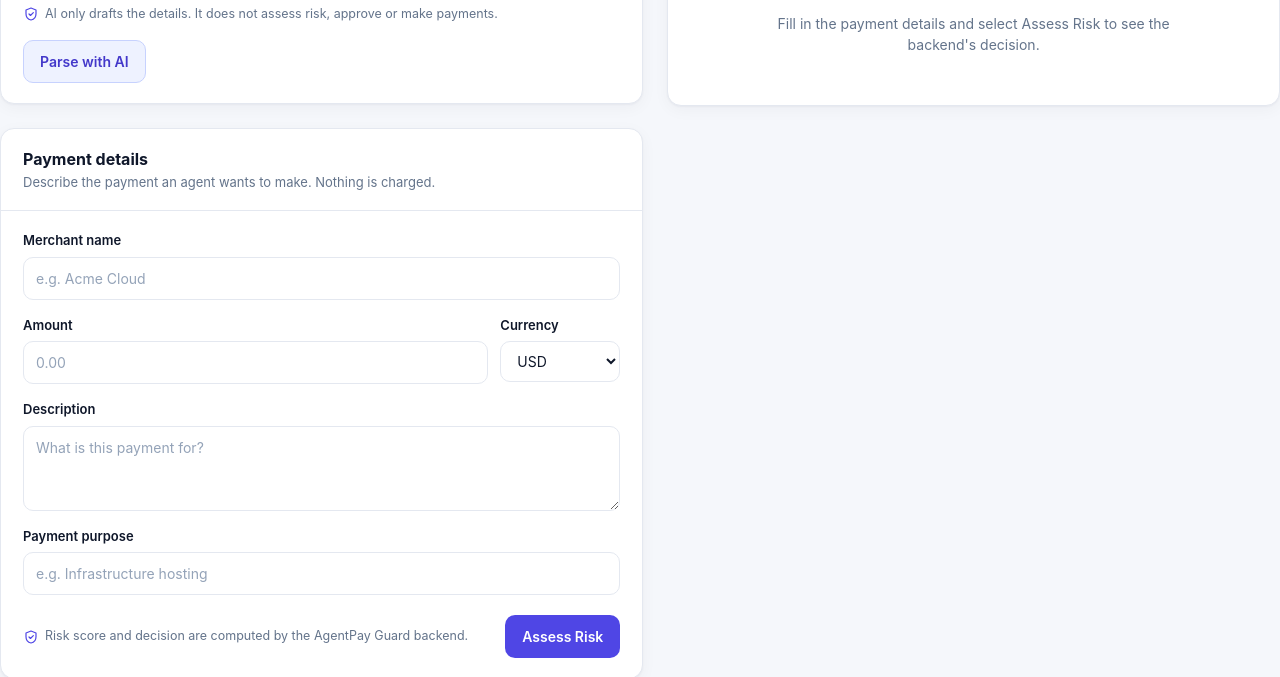
Test: NewPaymentPage: client-side validation › flags every required field and does not call the API
(page scrolled)
Click the button "Assess Risk" at (563, 637), box [505, 615, 620, 658]
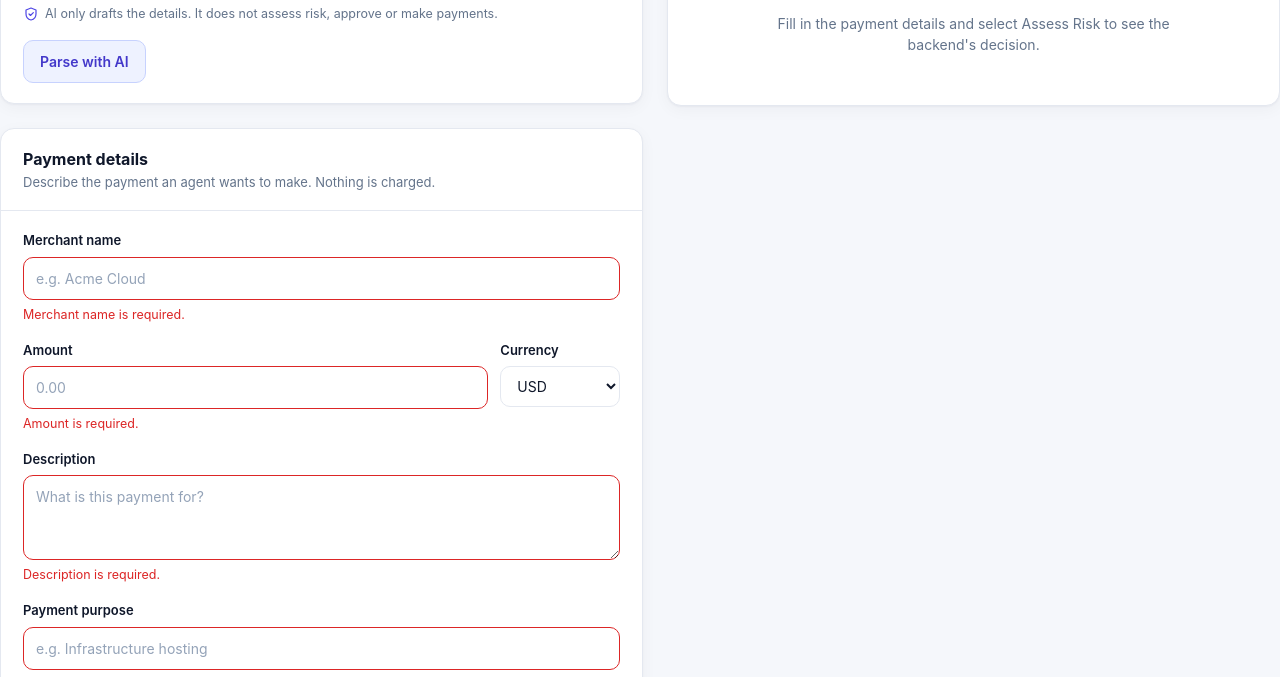
Check: the field labelled "Amount" is marked as invalid, box [23, 366, 488, 409]
Check: the text box labelled "Description" is marked as invalid, box [23, 475, 620, 560]
Check: the field labelled "Payment purpose" is marked as invalid, box [23, 626, 620, 670]
